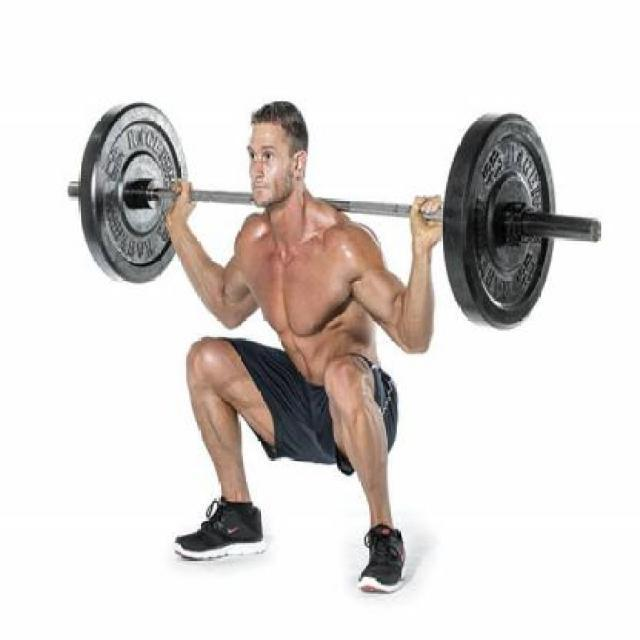Barbell: (587, 214, 604, 246)
